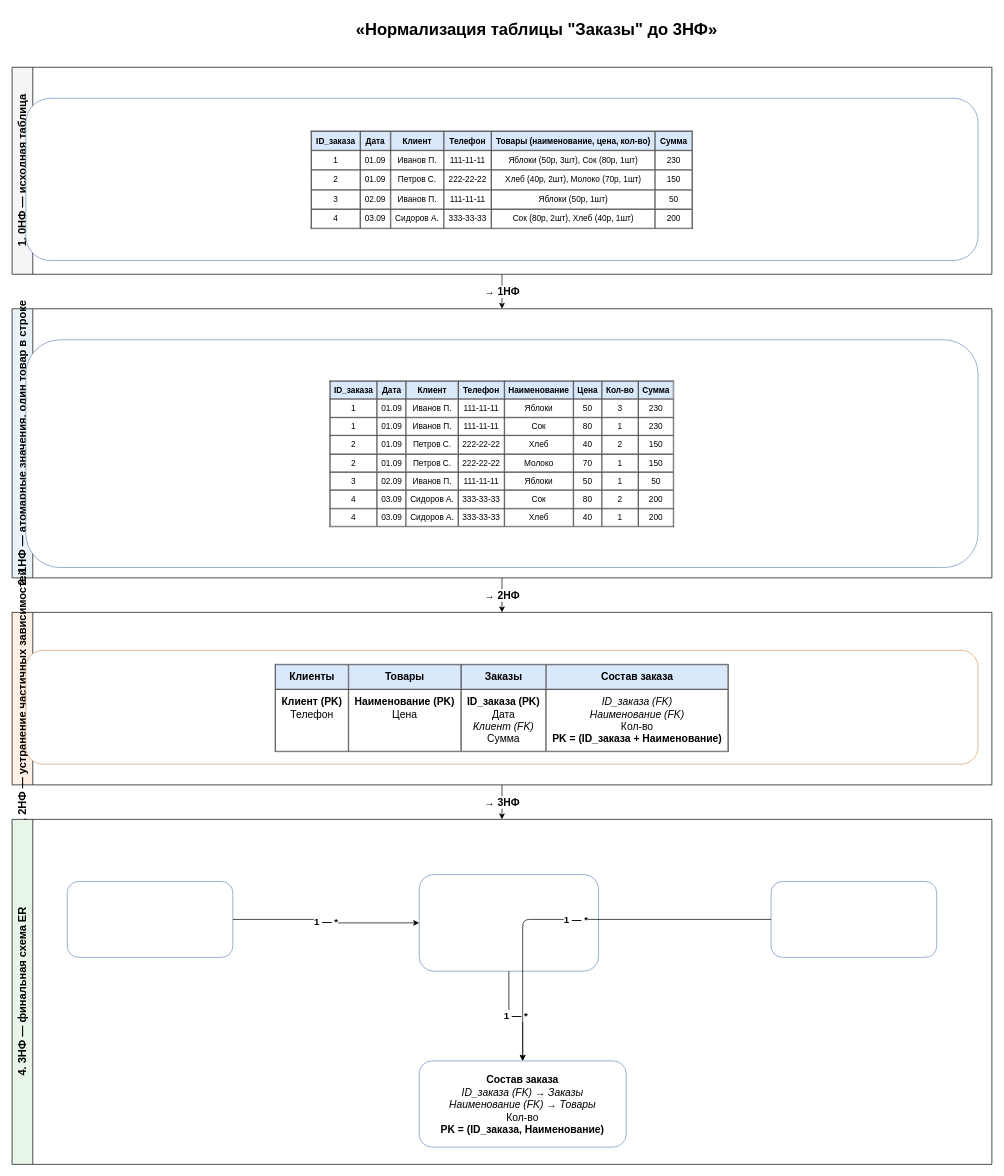
This 1004x1176 diagram has some shape labels left out. Here are the shapes that lost their labels. From the top down, the centre of each, then its label:
At point 150,919: "Клиенты Клиент (PK) Телефон".
At point 508,922: "Заказы ID_заказа (PK) Дата Клиент (FK) → Клиенты Сумма".
At point 853,919: "Товары Наименование (PK) Цена".
